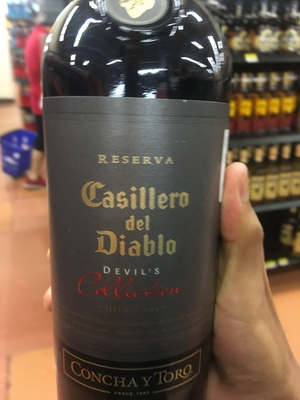casillero del diablo devils collection rojo: (43, 5, 226, 400)
